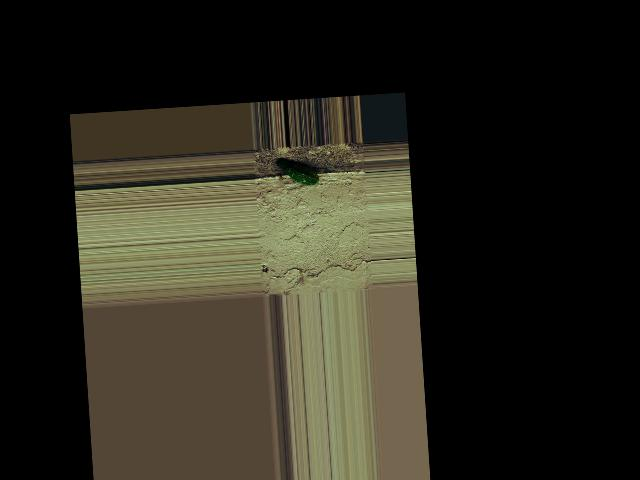cucumber: (277, 157, 319, 187)
